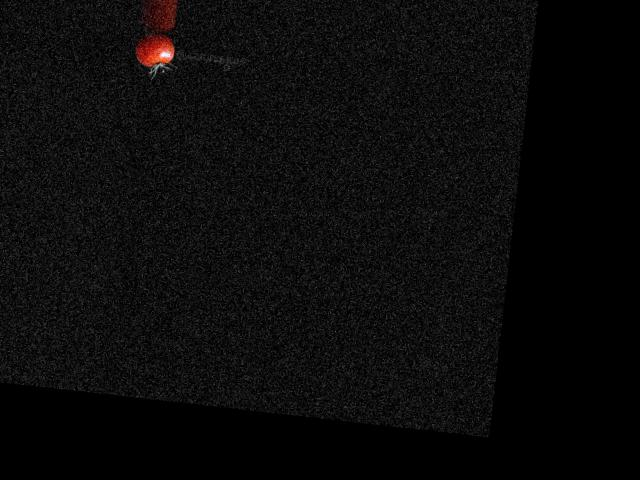tomato: (134, 31, 176, 69)
